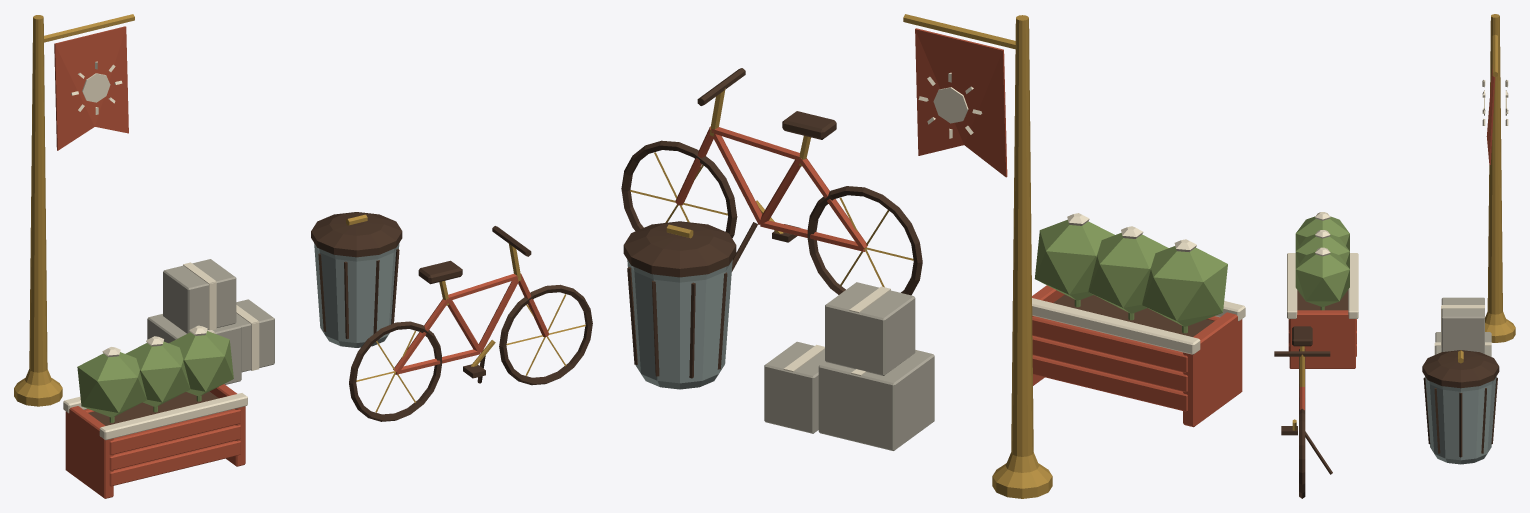
File: SM_StreetProps_L0.glb
3 views of the same model, side by side, from view 1: azimuth 30°, elevation 25°; view 2: azimuth 150°, elevation 25°; view 3: azimuth 270°, elevation 25° (orthographic). The views are drawn at different scales.
Visible parts, largest first — view 1: SM_FlowerBox, SM_LampBanner, SM_Bin, SM_Bicycle, SM_CartonStack; view 2: SM_FlowerBox, SM_LampBanner, SM_CartonStack, SM_Bin, SM_Bicycle; view 3: SM_FlowerBox, SM_Bin, SM_LampBanner, SM_CartonStack, SM_Bicycle.
Part boxes in pixels (box(x1,y1,x2,y2)): SM_FlowerBox: box(63, 325, 247, 498); SM_LampBanner: box(14, 14, 134, 406); SM_Bin: box(311, 212, 402, 347); SM_Bicycle: box(349, 226, 592, 421); SM_CartonStack: box(147, 259, 274, 384); SM_FlowerBox: box(1032, 213, 1245, 427); SM_LampBanner: box(903, 14, 1052, 498); SM_CartonStack: box(764, 282, 934, 450); SM_Bin: box(623, 221, 736, 389); SM_Bicycle: box(621, 68, 922, 295); SM_FlowerBox: box(1287, 212, 1358, 368); SM_Bin: box(1422, 350, 1499, 464); SM_LampBanner: box(1482, 14, 1515, 342); SM_CartonStack: box(1434, 297, 1491, 356); SM_Bicycle: box(1274, 326, 1332, 498).
Size of the model in its own units: 3.79 by 2.75 by 1.89.
